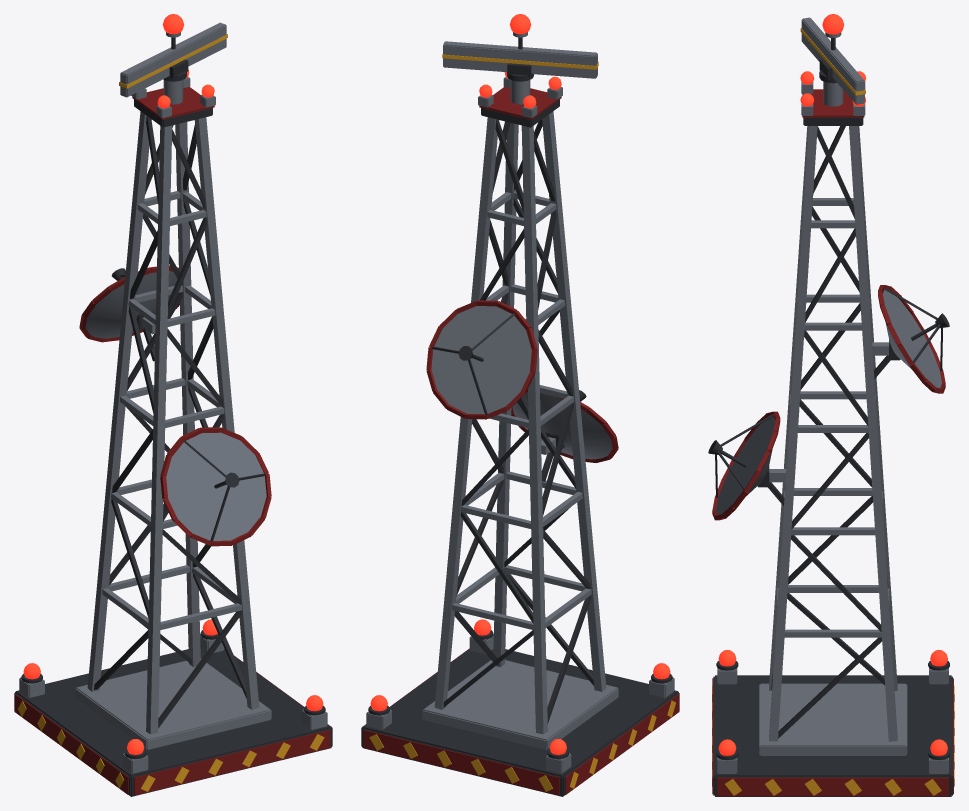
File: sensor_mast.glb
3 renders of one model, left to right at view 1: azimuth 30°, elevation 25°; view 2: azimuth 150°, elevation 25°; view 3: azimuth 270°, elevation 25°, orthographic. The views are drawn at different scales.
Parts seen in each view (by area): view 1: sensor_mast_gunmetal, sensor_mast_dark_steel, sensor_mast_oxblood, sensor_mast_amber_hazard, sensor_mast_warning_lamp; view 2: sensor_mast_gunmetal, sensor_mast_dark_steel, sensor_mast_oxblood, sensor_mast_amber_hazard, sensor_mast_warning_lamp; view 3: sensor_mast_gunmetal, sensor_mast_dark_steel, sensor_mast_oxblood, sensor_mast_warning_lamp, sensor_mast_amber_hazard.
Part boxes in pixels (left/top/right/bottom): sensor_mast_gunmetal: left=19, top=22, right=327, bottom=773; sensor_mast_dark_steel: left=14, top=37, right=332, bottom=796; sensor_mast_oxblood: left=14, top=87, right=331, bottom=795; sensor_mast_amber_hazard: left=18, top=34, right=324, bottom=791; sensor_mast_warning_lamp: left=23, top=14, right=323, bottom=754; sensor_mast_gunmetal: left=366, top=32, right=674, bottom=773; sensor_mast_dark_steel: left=361, top=37, right=679, bottom=796; sensor_mast_oxblood: left=362, top=87, right=679, bottom=795; sensor_mast_amber_hazard: left=369, top=53, right=675, bottom=791; sensor_mast_warning_lamp: left=370, top=14, right=670, bottom=754; sensor_mast_gunmetal: left=716, top=17, right=948, bottom=773; sensor_mast_dark_steel: left=708, top=38, right=952, bottom=796; sensor_mast_oxblood: left=712, top=89, right=953, bottom=796; sensor_mast_warning_lamp: left=718, top=14, right=947, bottom=755; sensor_mast_amber_hazard: left=712, top=28, right=954, bottom=795.
Size of the model in its own units: 12.16 by 40.45 by 12.34.
